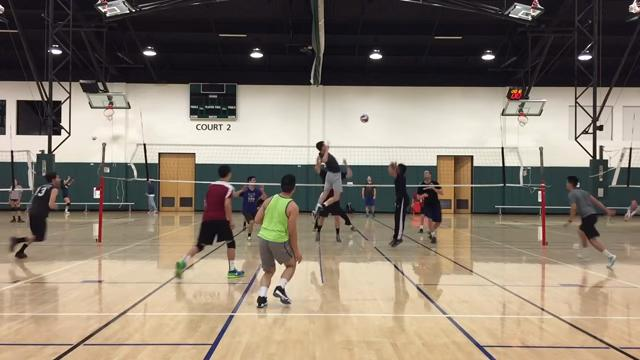alzata: (386, 158, 412, 252)
attacco: (308, 135, 350, 220)
